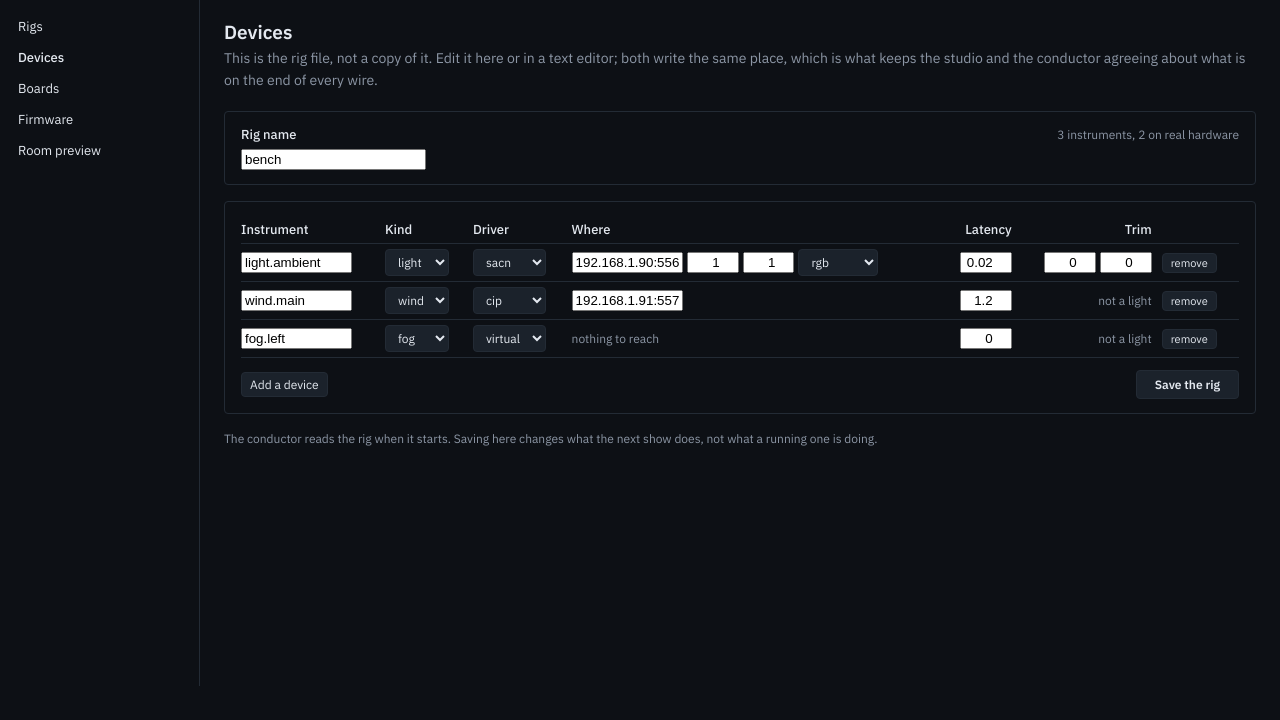
devices › lists what was wrong rather than pretending it saved
The width and height of the screenshot is (1280, 720).
Expected: the field named "Instrument 1 id" is shown, [241, 252, 352, 273]
Replace the text in the field named "Instrument 2 address" with "10.0.0.1:5570": (627, 301) [572, 290, 683, 311]
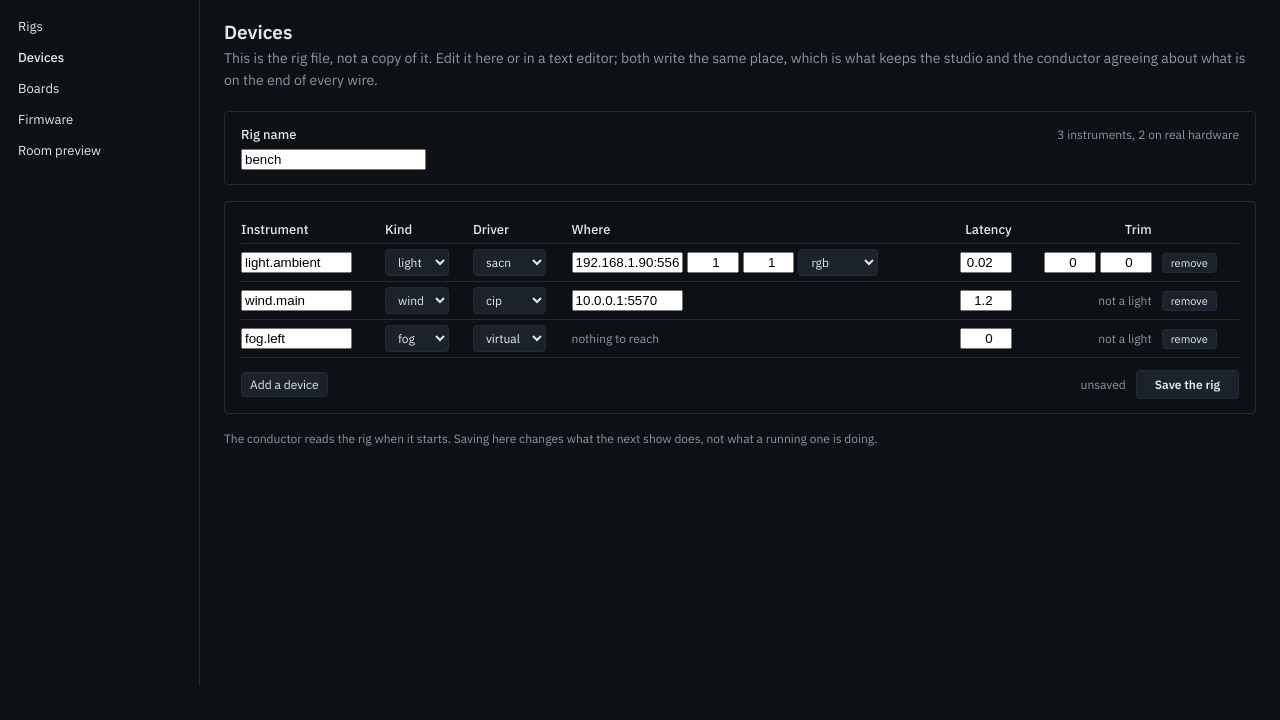
Click the button "Save the rig": (1187, 385) [1136, 370, 1239, 399]
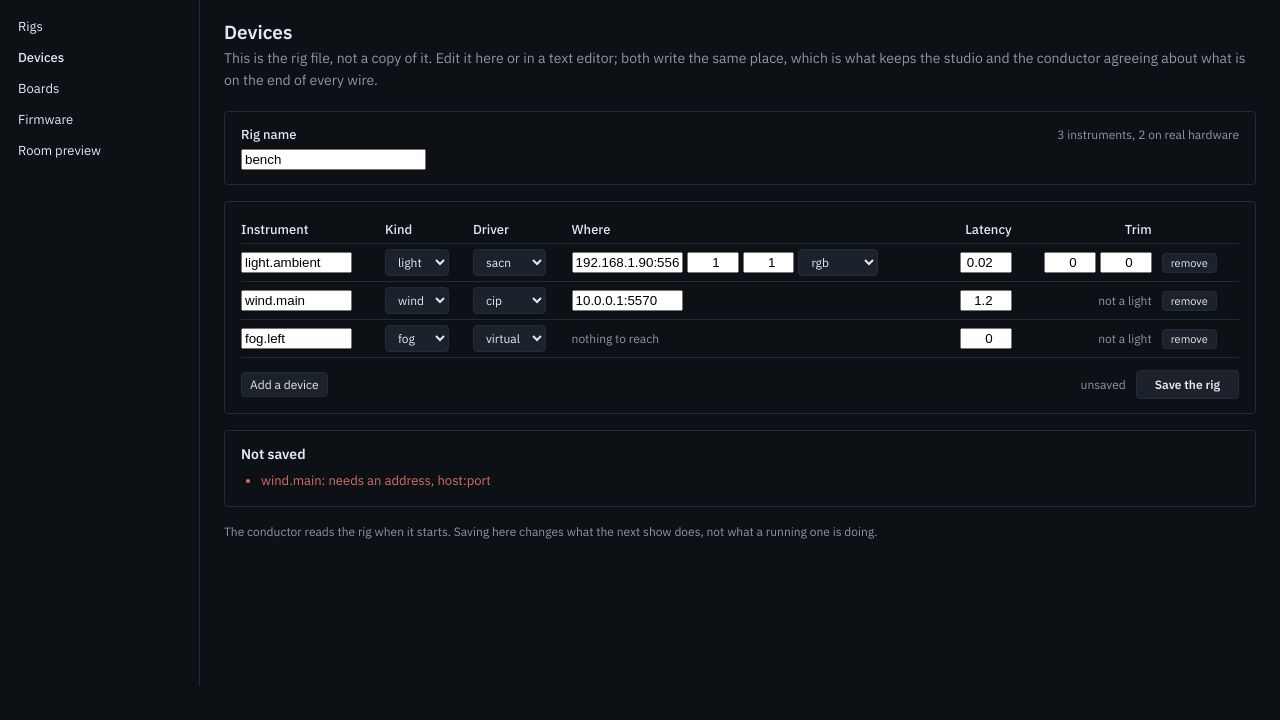
Expected: the list item "wind.main: needs an address, host:port" is shown, [261, 472, 491, 489]
Expected: the heading "Not saved" is shown, [241, 445, 306, 463]
